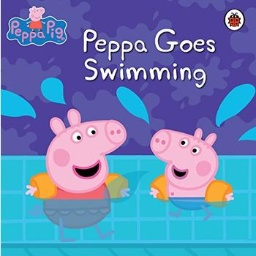Peppa: (23, 108, 131, 240)
